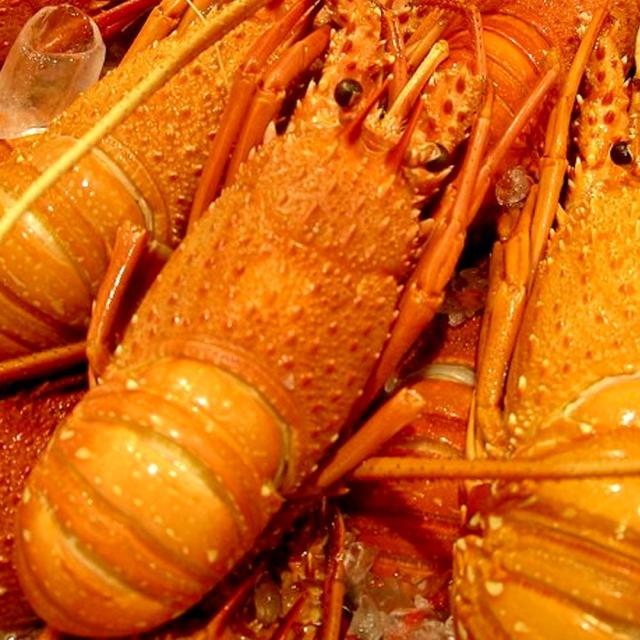Lobster: (18, 0, 576, 636)
